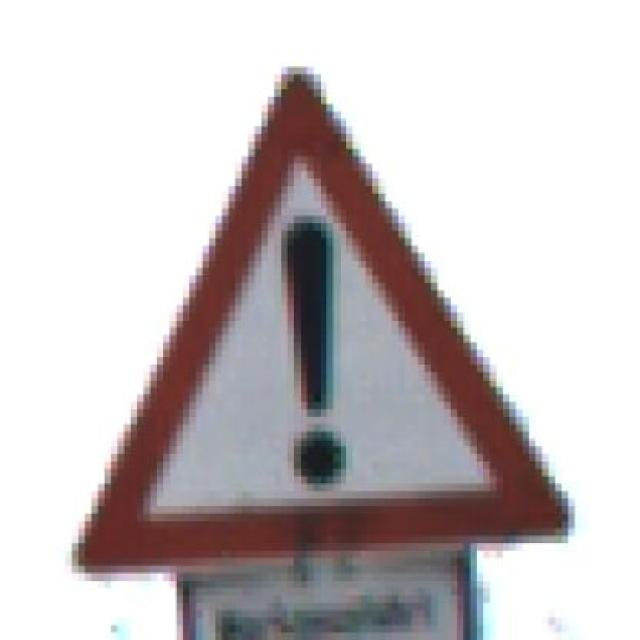Attention Please-: (52, 59, 600, 581)
